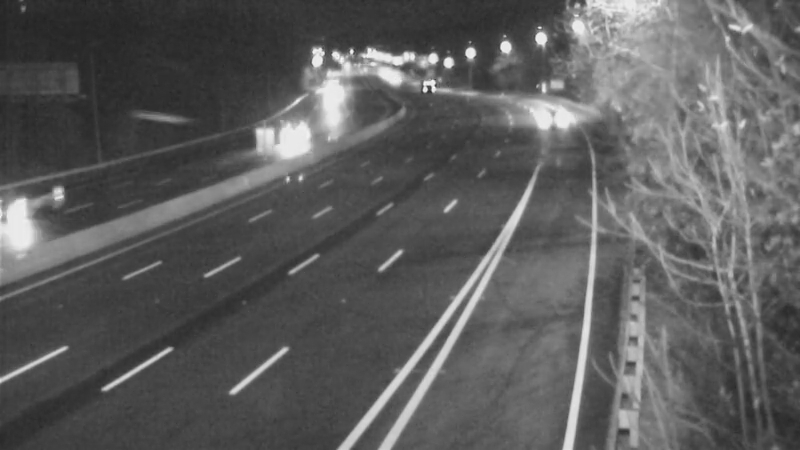vehicle: (1, 167, 78, 247), (399, 60, 449, 110), (370, 55, 420, 105), (525, 97, 575, 147), (262, 116, 312, 166)
